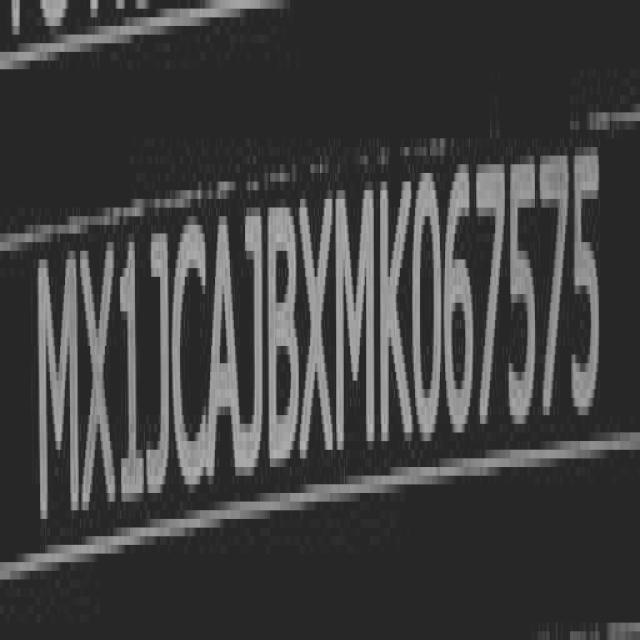0: (415, 170, 443, 452)
1: (120, 220, 138, 525)
5: (573, 133, 603, 432), (446, 156, 476, 446), (510, 146, 538, 439)
7: (542, 143, 570, 439), (477, 153, 505, 444)
A: (210, 198, 237, 502)
B: (270, 189, 298, 485)
C: (176, 212, 209, 508)
J: (146, 221, 172, 517), (241, 194, 266, 492)
K: (382, 170, 413, 458)
M: (36, 236, 76, 549), (336, 176, 375, 470)
X: (298, 180, 335, 480), (82, 230, 117, 534)
